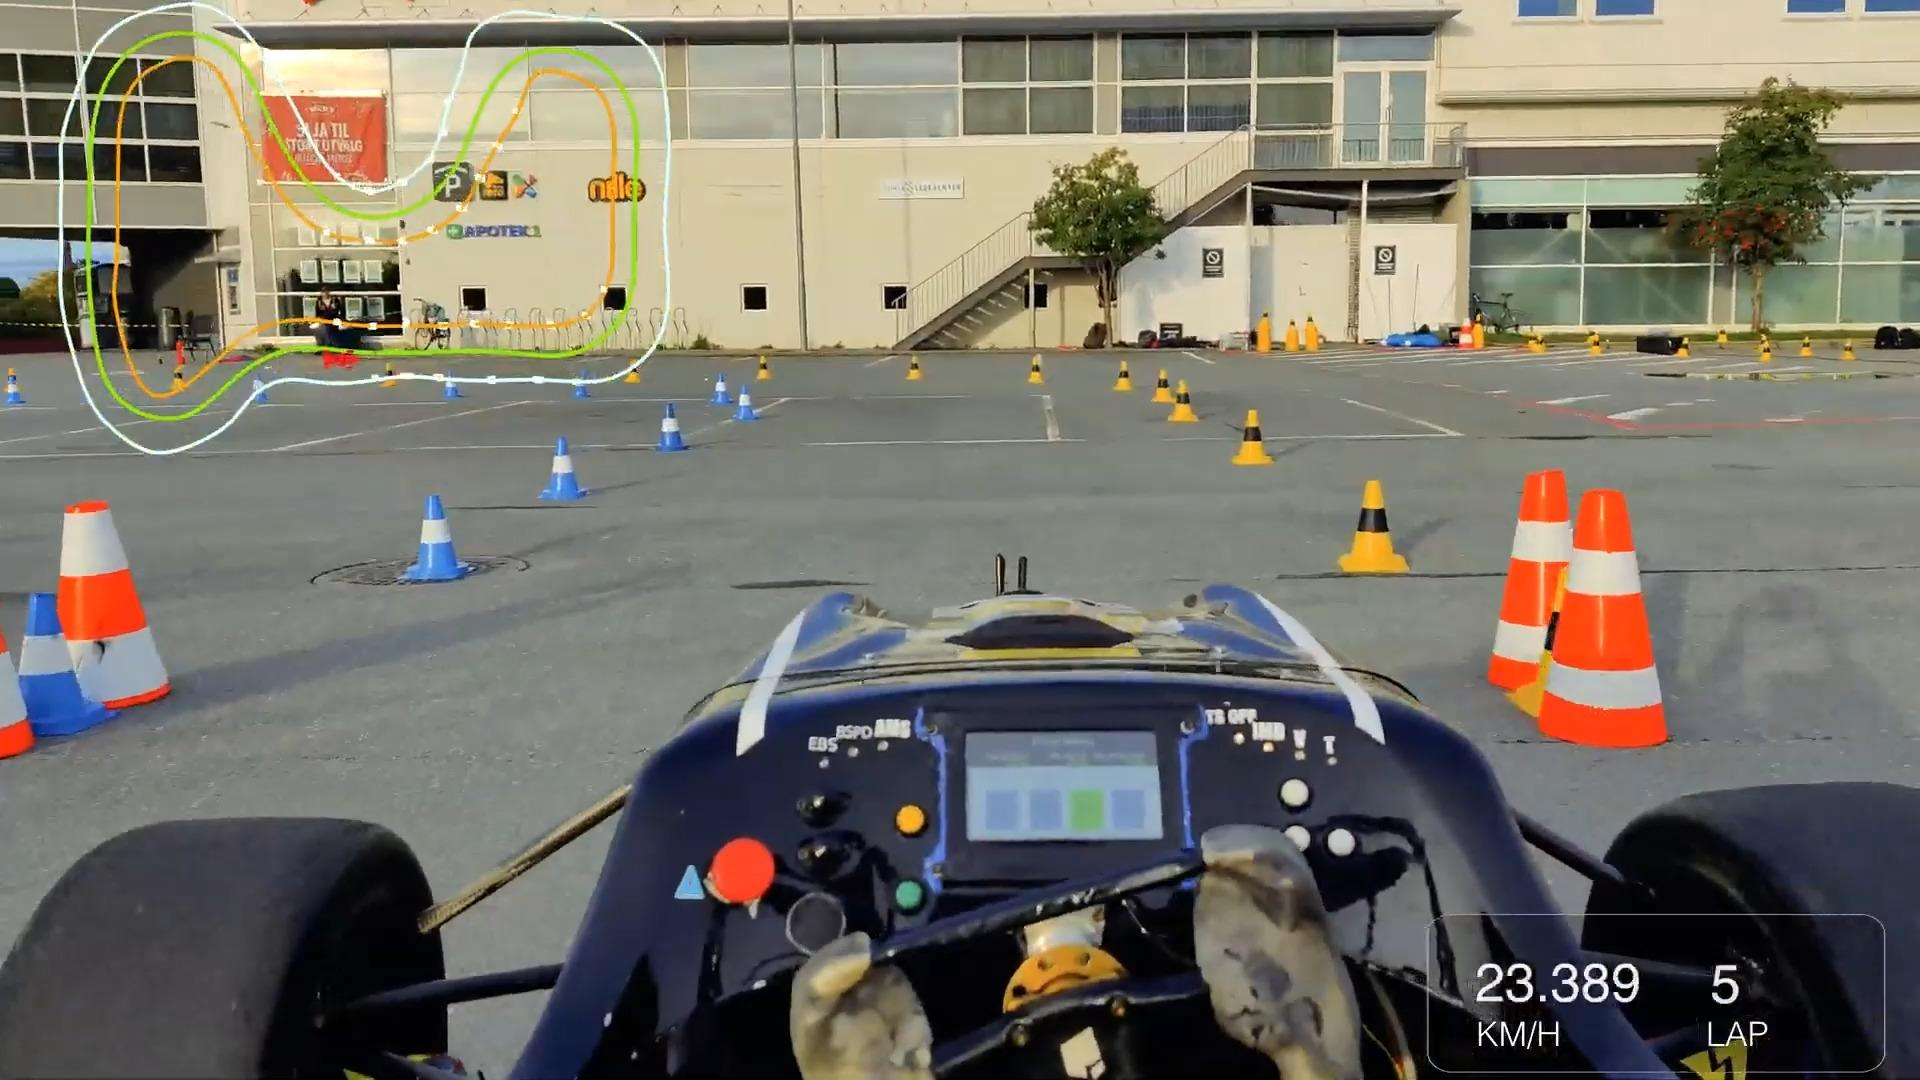blue_cone: (15, 588, 99, 738), (398, 492, 479, 588), (535, 435, 595, 504), (649, 397, 691, 456), (729, 385, 764, 425), (707, 368, 733, 407), (249, 373, 270, 406), (442, 364, 459, 402), (572, 368, 592, 401), (7, 378, 24, 405)
large_orange_cone: (1540, 483, 1671, 753), (54, 498, 177, 713), (1478, 444, 1571, 686), (1460, 316, 1476, 351)
orange_cone: (0, 621, 34, 770)
yellow_cone: (1513, 551, 1586, 723), (1333, 472, 1416, 579), (1230, 405, 1274, 468), (1168, 377, 1201, 427), (1150, 368, 1176, 405), (1025, 349, 1047, 388), (1109, 360, 1133, 393), (752, 352, 774, 382), (905, 353, 927, 382), (625, 357, 641, 388), (380, 359, 396, 389), (170, 367, 189, 392), (5, 365, 22, 392), (1797, 335, 1816, 357), (1840, 339, 1855, 360), (1589, 335, 1602, 357), (1679, 336, 1692, 359), (1760, 343, 1775, 363), (1534, 335, 1547, 353), (1258, 307, 1271, 326), (1717, 326, 1730, 343), (1758, 336, 1770, 355), (1305, 311, 1316, 326), (1287, 316, 1298, 330)
